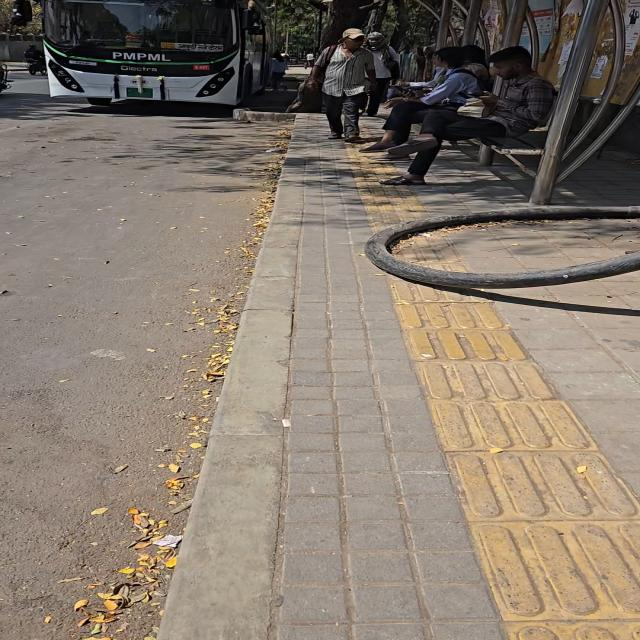obstacle: (530, 0, 607, 204), (320, 0, 371, 50), (480, 137, 543, 177), (322, 0, 370, 48), (502, 0, 527, 48), (462, 0, 482, 45), (390, 0, 408, 50), (364, 0, 388, 33), (437, 0, 452, 49), (272, 0, 277, 50), (317, 5, 322, 51), (285, 29, 289, 54)
person: (381, 46, 554, 184), (361, 47, 482, 152), (308, 29, 375, 142), (366, 32, 399, 116), (461, 45, 490, 88), (271, 52, 287, 90), (25, 45, 45, 62), (305, 52, 314, 68)
vehical: (0, 64, 10, 92)
